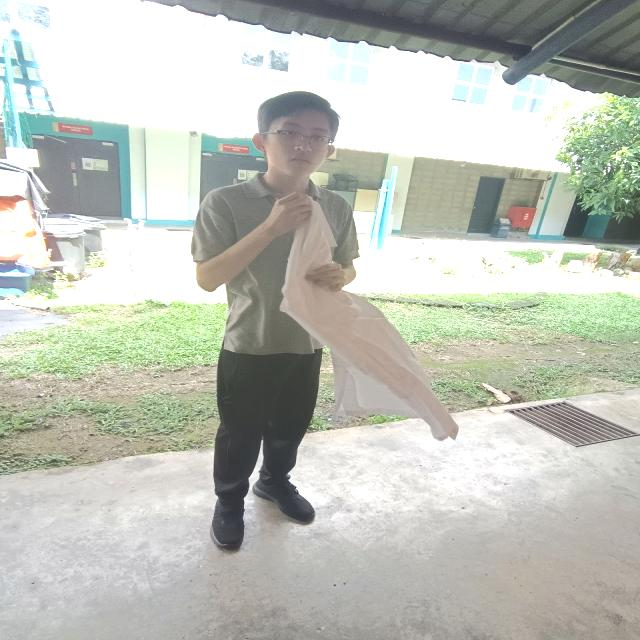person_without_labcoat: (191, 92, 457, 548)
